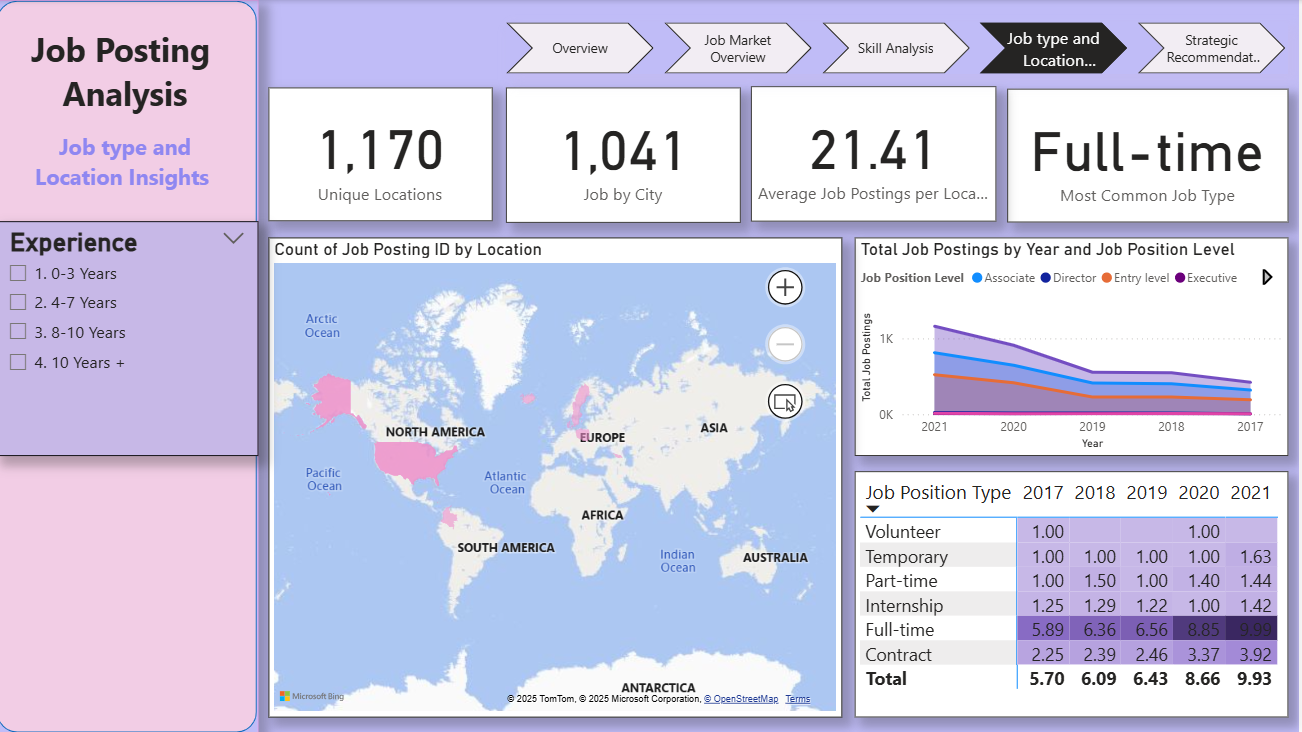

The dashboard page shown, as its layout file describes it:
{"tool":"powerbi","page":{"name":"Job type and Location Insights  ","canvas":[1280,720],"ordinal":3},"visuals":[{"type":"shape","box":[0,0,257.3,720.2],"z":0},{"type":"textbox","box":[18.8,21.6,216.4,181.8],"z":1000},{"type":"card","fields":{"Values":["_measure.Unique Locations"]},"box":[267.5,85.9,219.6,131.3],"z":2000},{"type":"card","fields":{"Values":["_measure.Most Common Job Type"]},"box":[992.6,87.1,276.1,131.3],"z":3000},{"type":"card","fields":{"Values":["_measure.Job by City"]},"box":[500.6,85.9,230.7,132.5],"z":4000},{"type":"card","fields":{"Values":["_measure.Average Job Postings per Location"]},"box":[741.1,84.7,240.5,132.5],"z":5000},{"type":"areaChart","fields":{"Category":["DimDate.Year"],"Y":["_measure.Total Job Postings"],"Series":["DimPosition.Job Position Level"]},"box":[842.9,233.1,425.8,214.7],"z":6000},{"type":"filledMap","fields":{"Category":["DimLocation.Location"]},"box":[267.5,233.1,563.2,471.2],"z":7000},{"type":"slicer","fields":{"Values":["Data.Experience(Years)"]},"box":[0,217.2,257.7,230.7],"z":8000},{"type":"pivotTable","fields":{"Values":["_measure.Average Job Postings per Location"],"Rows":["Data.Job Position Type"],"Columns":["DimDate.Year"]},"box":[842.9,462.6,425.8,241.7],"z":9000},{"type":"pageNavigator","box":[500.6,22.1,768.1,50.3],"z":10000}]}

Visuals, with their boxes in screenshot pixels (x1, y1, x2, y2), scaled from the page's 1280x720 canvas onto the 1302x732 screenshot:
shape: [0,0,262,731]
textbox: [19,22,239,207]
card - _measure.Unique Locations: [272,87,495,221]
card - _measure.Most Common Job Type: [1010,89,1291,222]
card - _measure.Job by City: [509,87,744,222]
card - _measure.Average Job Postings per Location: [754,86,998,221]
areaChart - DimDate.Year x _measure.Total Job Postings: [857,237,1291,455]
filledMap - DimLocation.Location: [272,237,845,716]
slicer - Data.Experience(Years): [0,221,262,455]
pivotTable - _measure.Average Job Postings per Location x Data.Job Position Type: [857,470,1291,716]
pageNavigator: [509,22,1291,74]
